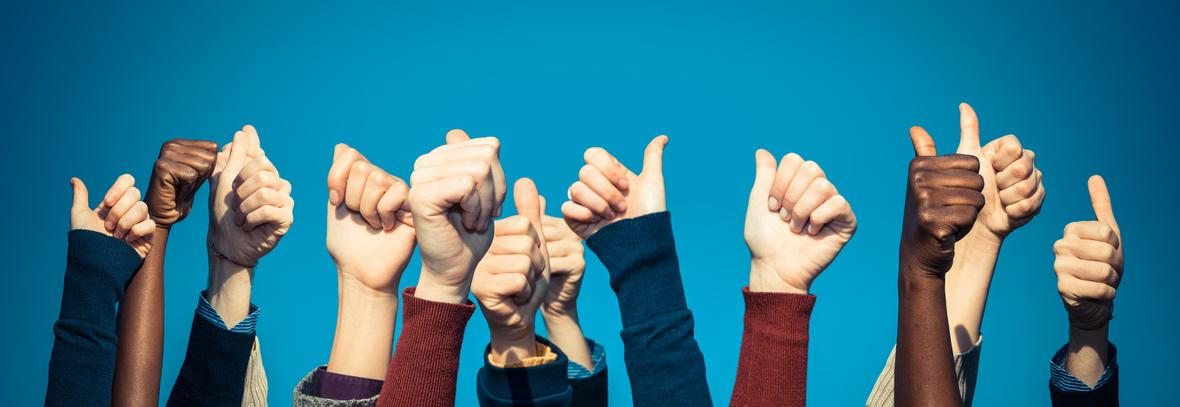thumbsup: (958, 102, 1047, 219), (560, 132, 670, 224), (1052, 172, 1126, 303), (906, 124, 986, 240), (63, 174, 157, 268), (485, 178, 545, 308), (231, 130, 294, 235)
